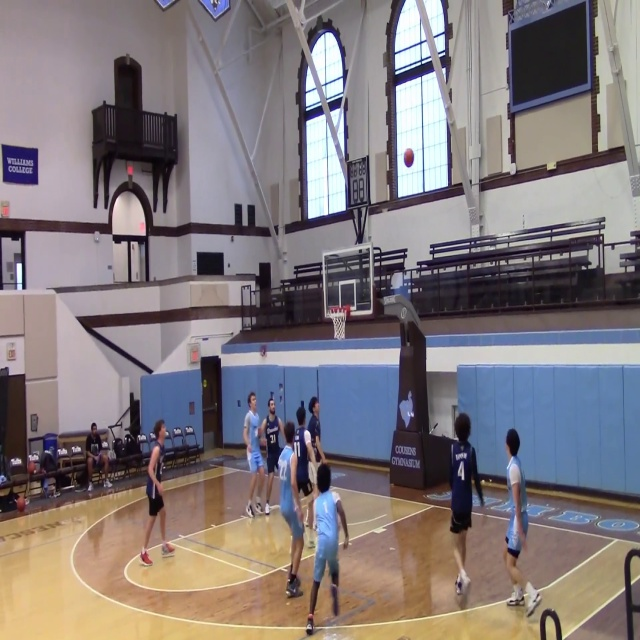Basketball: (403, 148, 414, 167), (15, 497, 25, 512), (27, 462, 36, 474)
